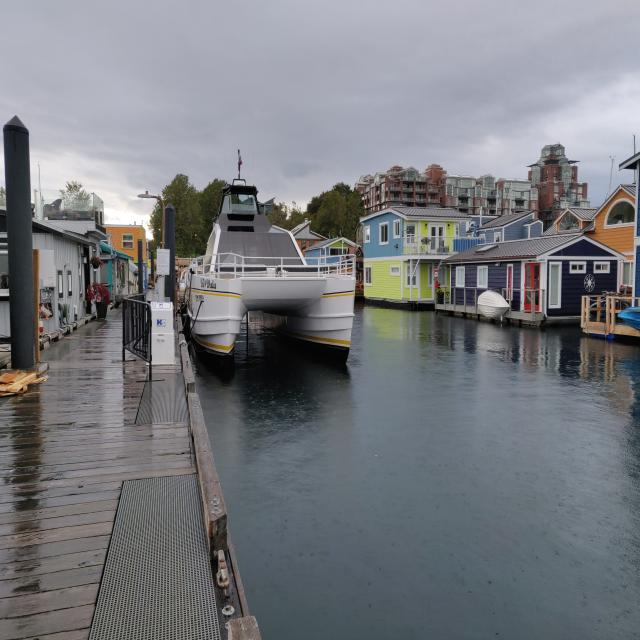boat: (187, 147, 359, 379)
